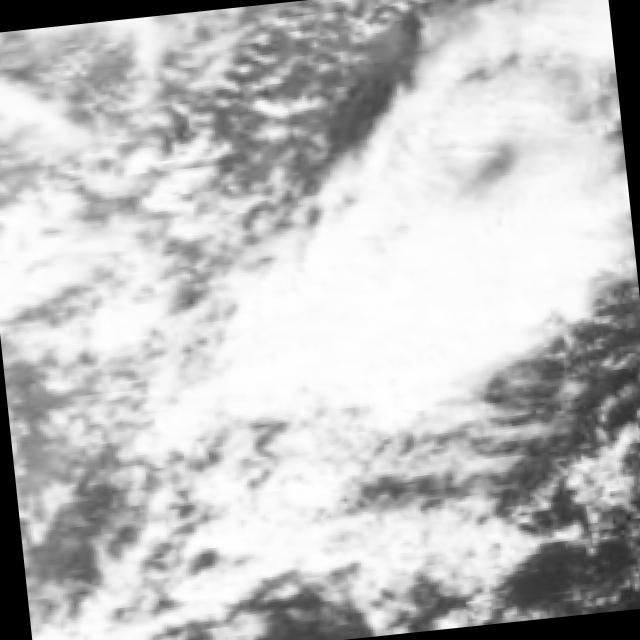CB: (187, 232, 423, 427), (296, 208, 510, 378)
